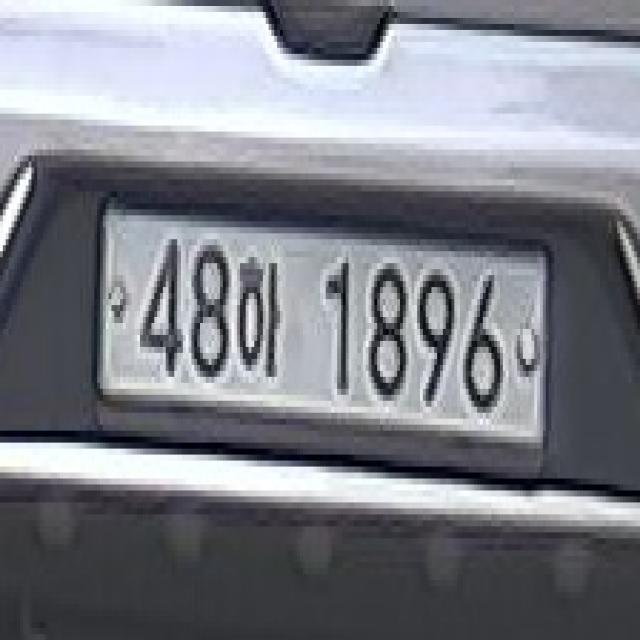1: (316, 258, 360, 402)
4: (134, 230, 187, 395)
6: (460, 261, 506, 418)
8: (366, 262, 409, 410), (190, 242, 232, 388)
9: (414, 260, 458, 418)
ha: (234, 251, 286, 390)
license_plate: (85, 181, 560, 490)
